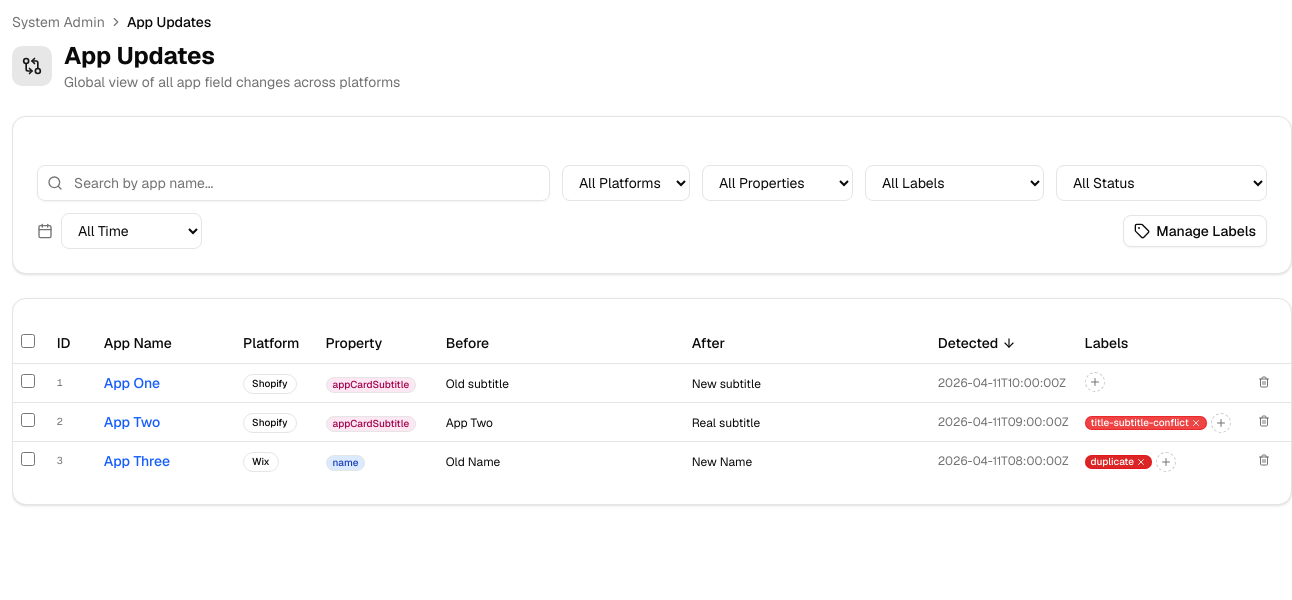
Test: AppUpdatesPage — bulk operations › shows bulk actions bar when items are selected
The width and height of the screenshot is (1292, 600).
Expected: the link "App One" is shown, [104, 374, 160, 392]
Note: Click first row checkbox
Click the checkbox in the row of "App One" at (28, 381), box [21, 374, 35, 388]
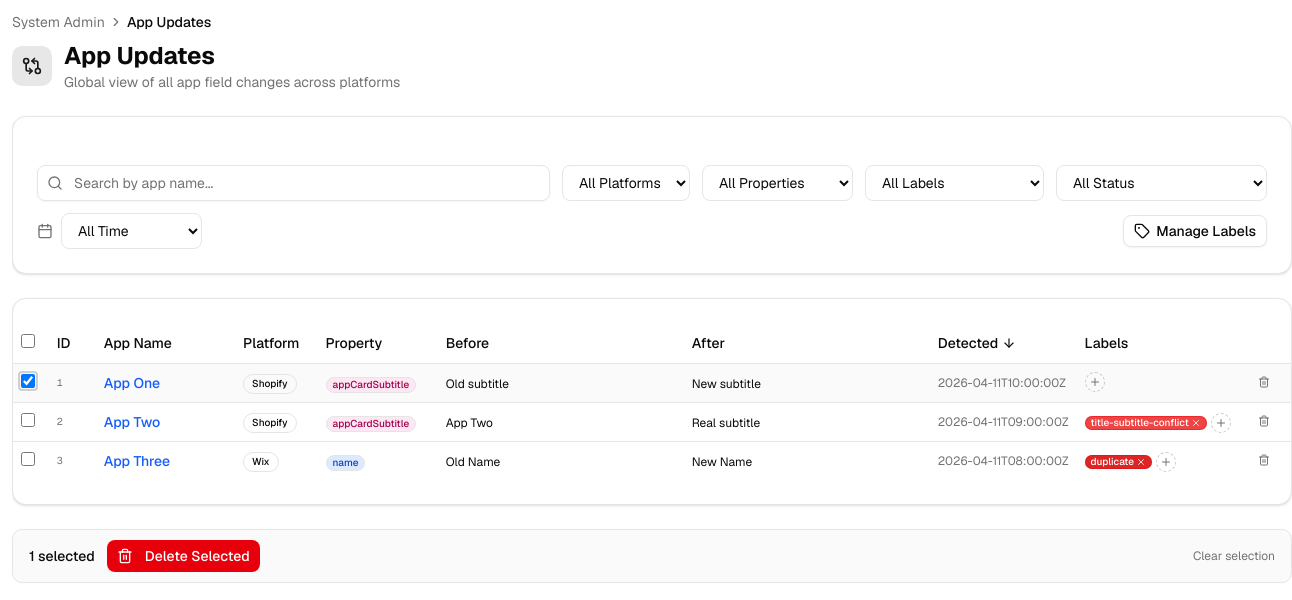
Expected: the text "1 selected" is shown, [29, 546, 95, 566]
Expected: the button "Delete Selected" is shown, [107, 540, 260, 572]
